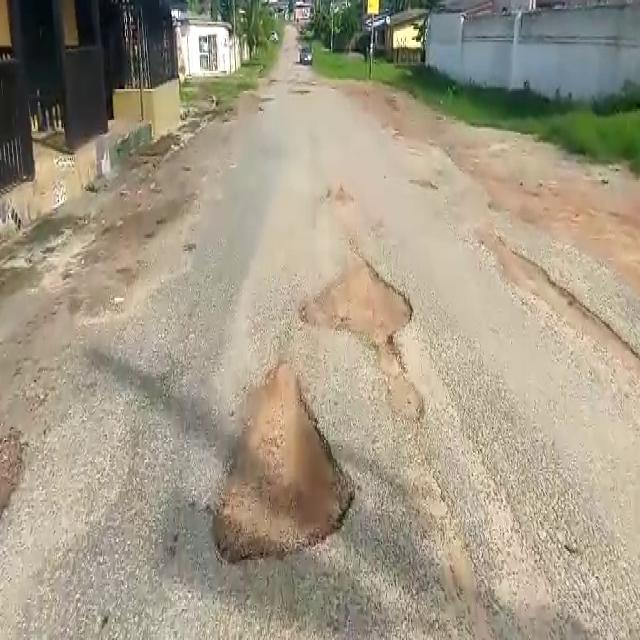pothole: (200, 369, 362, 565), (293, 257, 423, 353), (0, 421, 31, 537), (411, 177, 443, 193)
